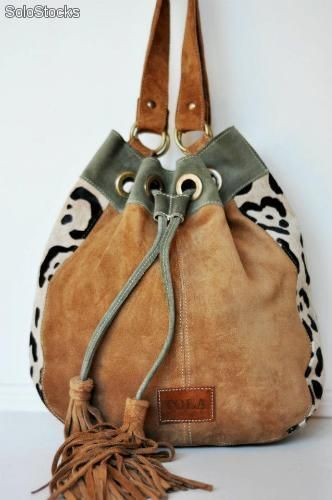gamuza: (28, 1, 326, 500)
